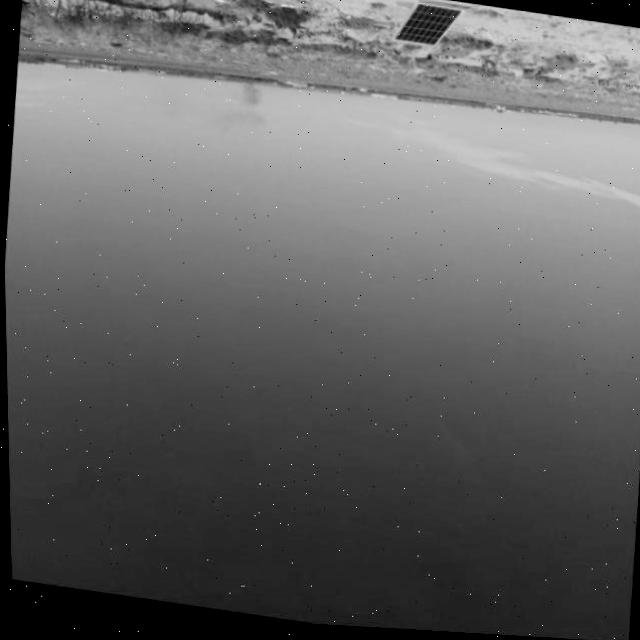Normal Solar Panel: (391, 0, 463, 51)
